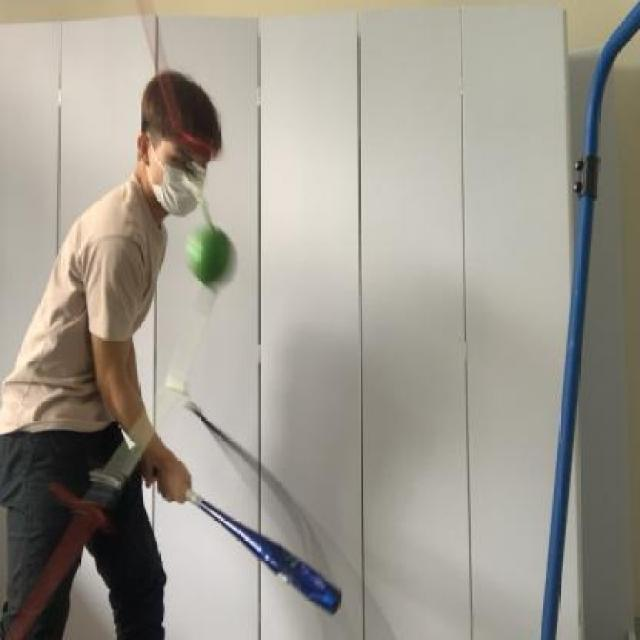baseball: (186, 220, 239, 297)
